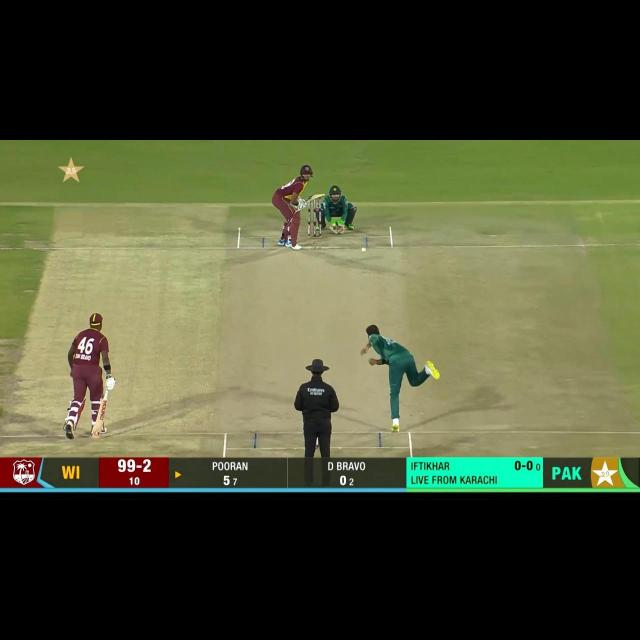bat: (92, 399, 109, 439), (304, 193, 325, 203)
toe: (92, 432, 99, 438), (318, 193, 325, 197)
